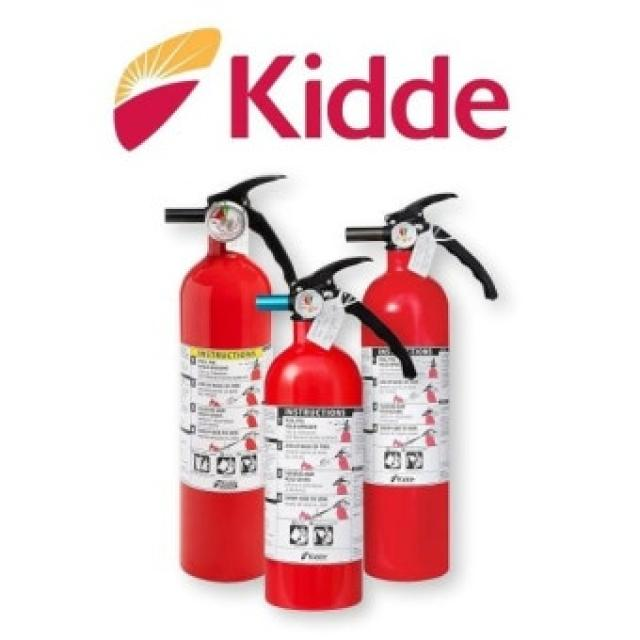pressure gauge: (202, 204, 248, 244), (296, 292, 325, 319), (394, 223, 417, 248)
